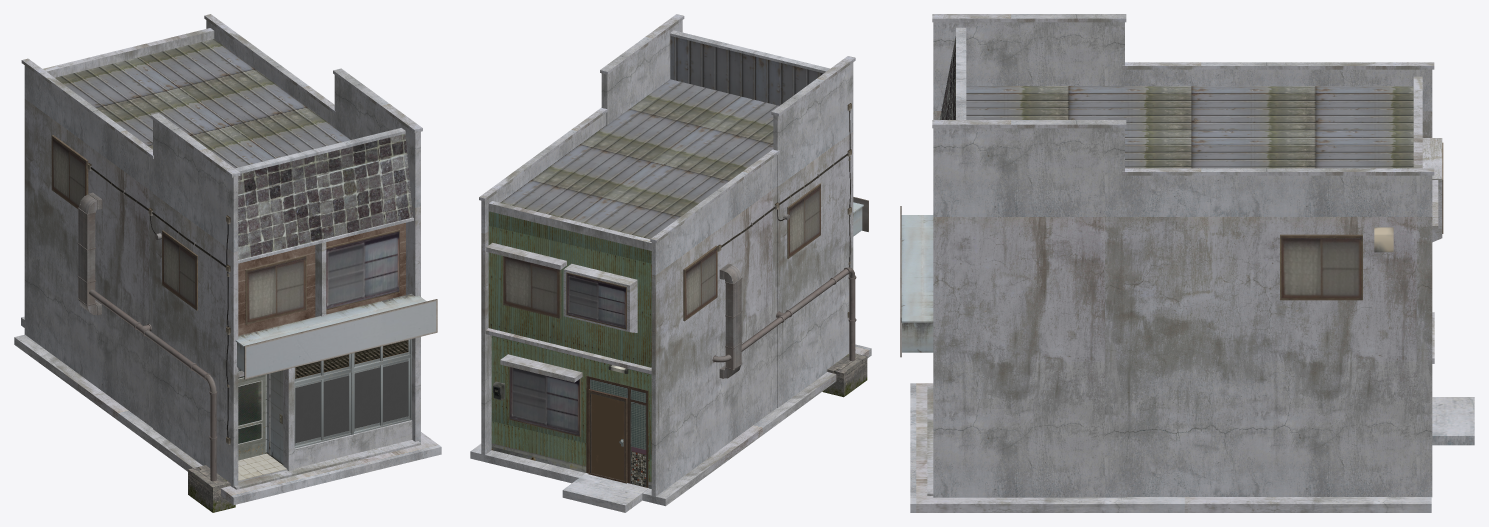
The model's file is house_shop_03.fbx.
3 renders of one model, left to right at view 1: azimuth 30°, elevation 25°; view 2: azimuth 150°, elevation 25°; view 3: azimuth 270°, elevation 25°, orthographic. The views are drawn at different scales.
Visible parts, largest first — view 1: house_shop_03; view 2: house_shop_03; view 3: house_shop_03.
Part boxes in pixels (box(x1,y1,x2,y2)): house_shop_03: box(14, 14, 441, 512); house_shop_03: box(470, 14, 871, 512); house_shop_03: box(900, 14, 1474, 512).
Bounding box in the file's own units: 633 × 1225 × 943.
14 materials, 14 textured.
